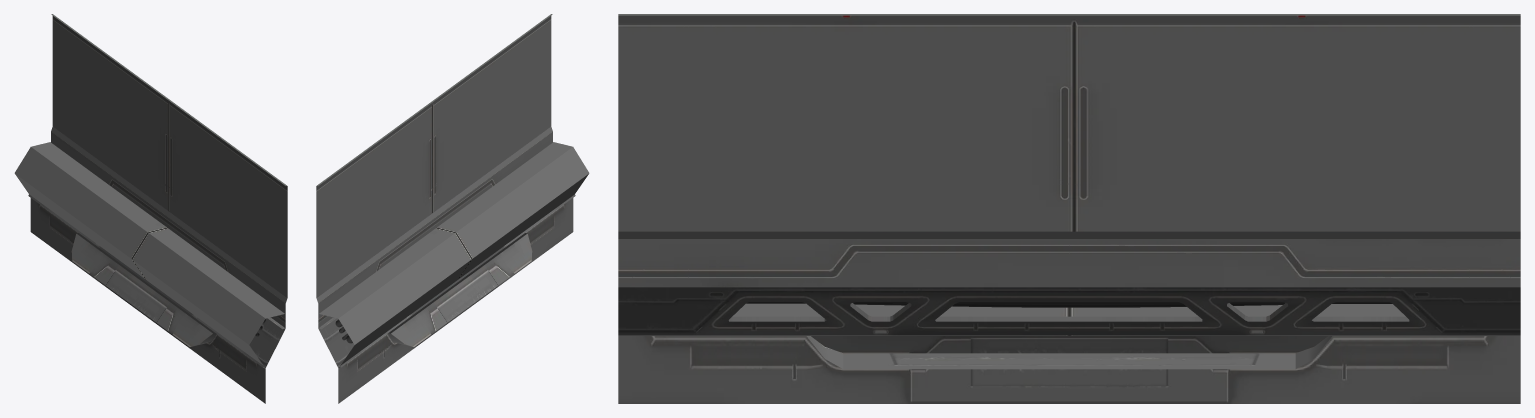
The model's file is TopCables_Straight.glb.
The picture shows the model from 3 angles, left to right: view 1: azimuth 30°, elevation 25°; view 2: azimuth 150°, elevation 25°; view 3: azimuth 270°, elevation 25°; orthographic projection. The views are drawn at different scales.
Parts seen in each view (by area): view 1: TopCables_Straight; view 2: TopCables_Straight; view 3: TopCables_Straight.
Boxes of the visible parts, x1=… form: TopCables_Straight: x1=14, y1=14, x2=287, y2=403; TopCables_Straight: x1=316, y1=14, x2=589, y2=403; TopCables_Straight: x1=618, y1=14, x2=1520, y2=403.
Bounding box in the file's own units: 0.3838 × 2 × 4.
3 materials, 3 textured.
